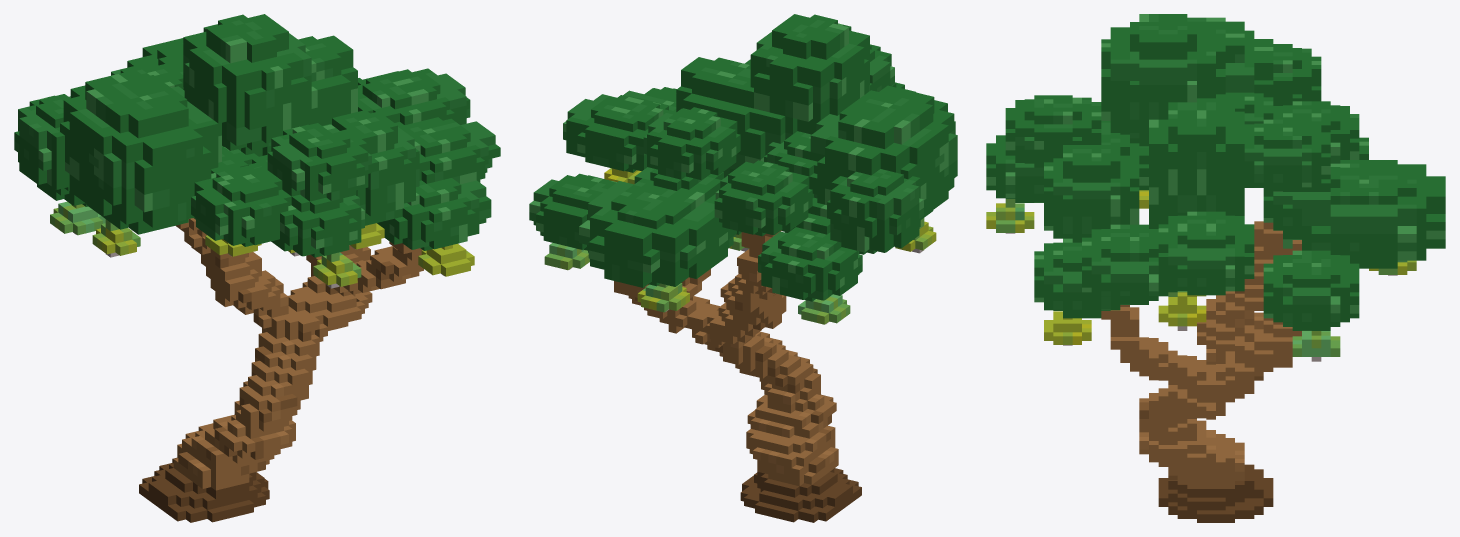
The model's file is 1_0 caju.obj.
3 renders of one model, left to right at view 1: azimuth 30°, elevation 25°; view 2: azimuth 150°, elevation 25°; view 3: azimuth 270°, elevation 25°, orthographic. The views are drawn at different scales.
Size of the model in its own units: 4.7 by 5.5 by 4.8.
Materials: 1 (1 with a texture image).
